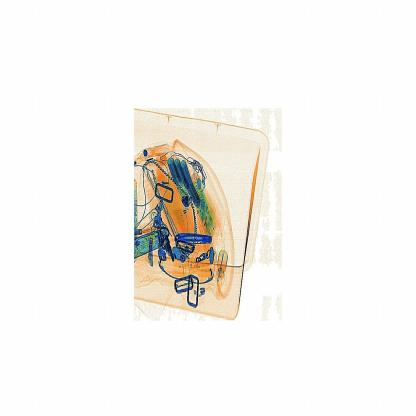knife: (174, 228, 220, 246)
